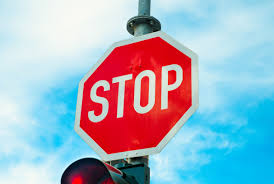stop: (74, 30, 201, 162)
